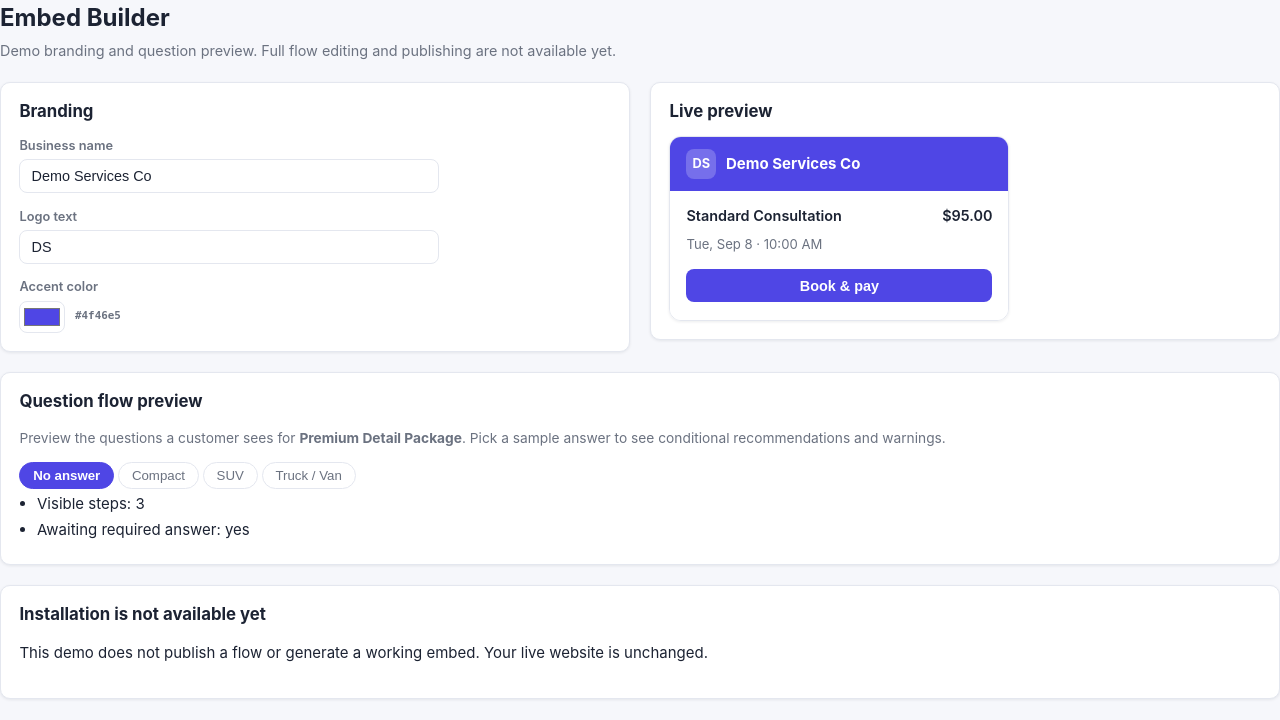
Test: CheckoutConfig workflow preview › renders the preview and surfaces a warning when a truck is chosen
Expected: the element with test id "flow-preview" is shown, [19,462,356,539]
Click the button "Truck / Van" at point(309, 476), box [262,462,356,489]
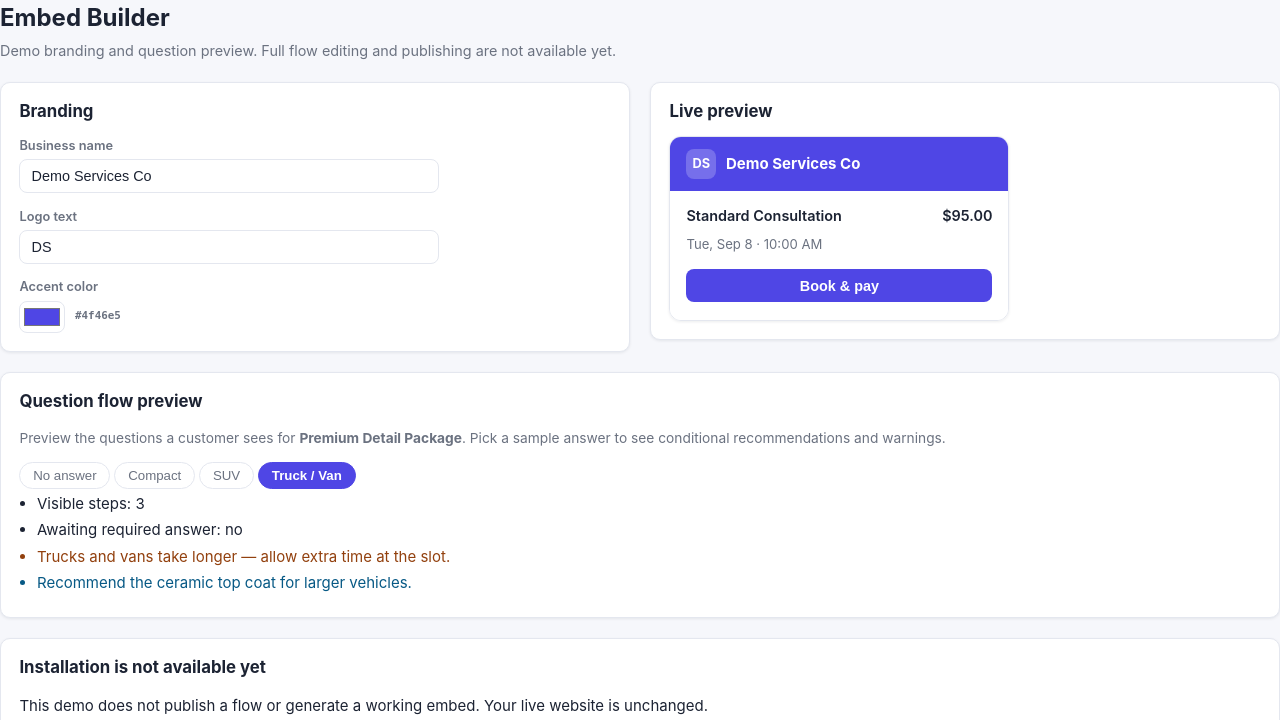
Now the list item with test id "flow-warning" is shown, box [37,547,450,566]
